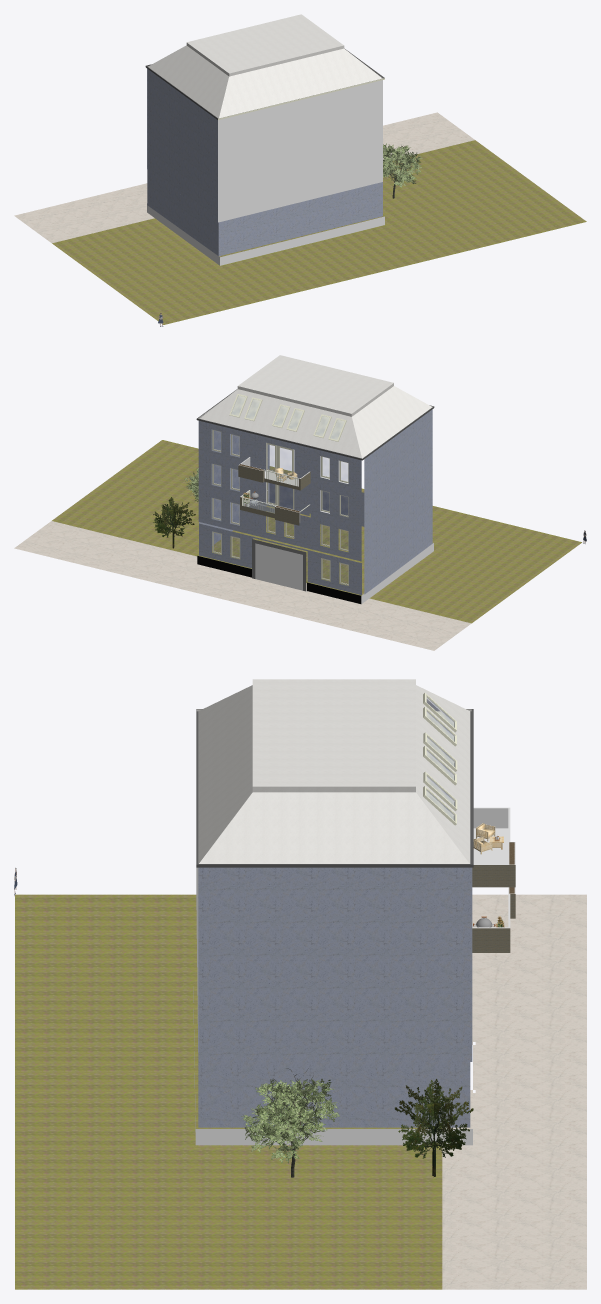
File: Light building-compressed.glb
3 renders of one model, top to bottom at view 1: azimuth 30°, elevation 25°; view 2: azimuth 150°, elevation 25°; view 3: azimuth 270°, elevation 25°, orthographic. The views are drawn at different scales.
Visible parts, largest first — view 1: Geom3D_625, Geom3D_617, Geom3D_228, Geom3D_236, Geom3D_620, Geom3D_624; view 2: Geom3D_625, Geom3D_620, Geom3D_624, Geom3D_228, Geom3D_236, Geom3D_617, Geom3D_612, Geom3D_615, Geom3D_623, Geom3D_613, Geom3D_22, Geom3D_616 (+2 smaller); view 3: Geom3D_625, Geom3D_620, Geom3D_624, Geom3D_228, Geom3D_236, Geom3D_617, Geom3D_613, Geom3D_615, Geom3D_22, Geom3D_23, Geom3D_616.
Part boxes in pixels (x1,y1,x2,y2): Geom3D_625: [52, 140, 586, 324]; Geom3D_617: [147, 80, 384, 265]; Geom3D_228: [148, 14, 382, 118]; Geom3D_236: [147, 171, 382, 256]; Geom3D_620: [147, 68, 217, 220]; Geom3D_624: [14, 112, 474, 243]; Geom3D_625: [52, 440, 581, 623]; Geom3D_620: [198, 409, 432, 561]; Geom3D_624: [14, 521, 471, 650]; Geom3D_228: [199, 355, 433, 458]; Geom3D_236: [199, 429, 432, 594]; Geom3D_617: [255, 443, 433, 603]; Geom3D_612: [231, 395, 344, 511]; Geom3D_615: [238, 465, 310, 525]; Geom3D_623: [197, 556, 361, 603]; Geom3D_613: [196, 389, 434, 460]; Geom3D_22: [153, 497, 195, 547]; Geom3D_616: [238, 457, 309, 522]; Geom3D_625: [15, 894, 442, 1289]; Geom3D_620: [198, 867, 472, 1061]; Geom3D_624: [442, 894, 586, 1289]; Geom3D_228: [198, 679, 470, 863]; Geom3D_236: [198, 877, 470, 1127]; Geom3D_617: [193, 867, 472, 1145]; Geom3D_613: [196, 709, 473, 867]; Geom3D_615: [472, 865, 515, 952]; Geom3D_22: [394, 1079, 469, 1176]; Geom3D_23: [398, 1080, 473, 1176]; Geom3D_616: [472, 807, 515, 928].
Bounding box in the file's own units: 52.17 × 20.47 × 31.59.
Materials: 60 (23 with a texture image).
